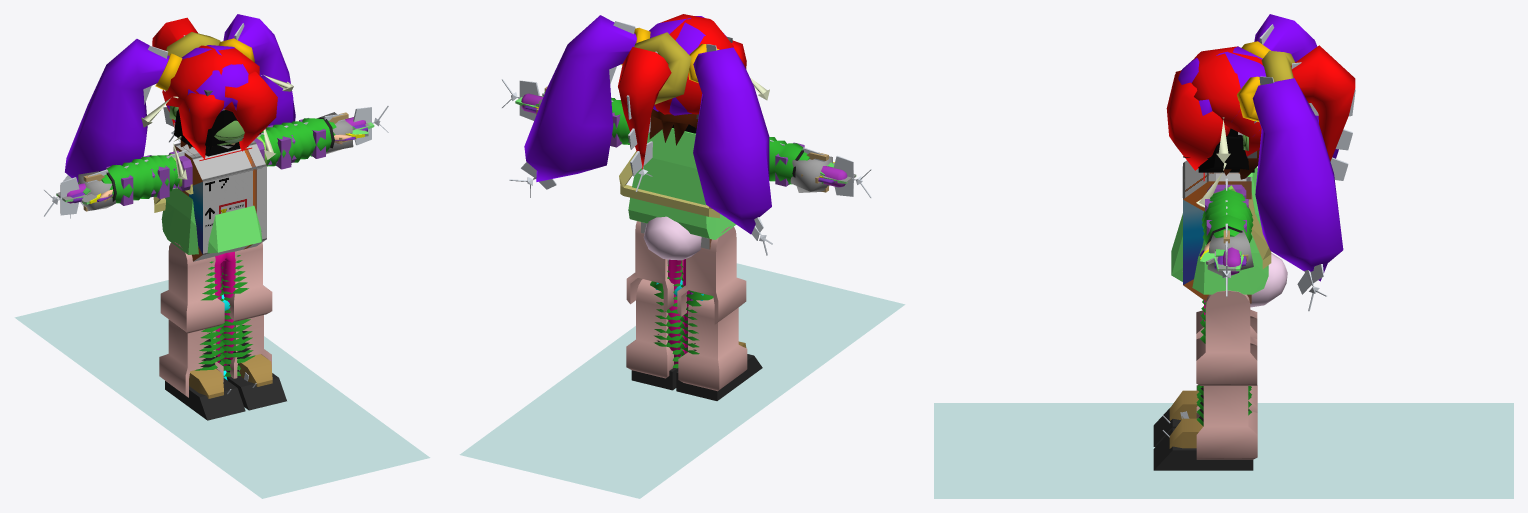
Rendered from robotCompositeNew.glb.
3 views of the same model, side by side, from view 1: azimuth 30°, elevation 25°; view 2: azimuth 150°, elevation 25°; view 3: azimuth 270°, elevation 25° (orthographic). The views are drawn at different scales.
Parts seen in each view (by area): view 1: RemoveMeFloorPlane, cassyPtail002, torso3, luleg010, torso2, cassyPtail001, cassyHair, cassyBangs1, llleg010, luleg9, rarm2, larm2 (+21 smaller); view 2: RemoveMeFloorPlane, cassyPtail002, cassyPtail001, torso2, llleg010, luleg010, cassyPtail, llleg9, torso7, cassyHair, luleg9, cassyHairAcc (+12 smaller); view 3: RemoveMeFloorPlane, cassyPtail001, luleg9, llleg9, cassyPtail, cassyHair, cassyBangs1, torso3, torso2, larm2, lfoot01, cassyPtail002 (+9 smaller).
Part boxes in pixels (<box>): RemoveMeFloorPlane: <box>14,280,430,498</box>; cassyPtail002: <box>65,39,169,182</box>; torso3: <box>173,141,266,261</box>; luleg010: <box>160,242,224,333</box>; torso2: <box>161,188,262,254</box>; cassyPtail001: <box>223,14,295,126</box>; cassyHair: <box>162,45,259,122</box>; cassyBangs1: <box>224,71,277,151</box>; llleg010: <box>159,319,223,397</box>; luleg9: <box>229,242,272,321</box>; rarm2: <box>101,155,179,203</box>; larm2: <box>256,118,336,166</box>; RemoveMeFloorPlane: <box>459,263,905,498</box>; cassyPtail002: <box>693,47,771,234</box>; cassyPtail001: <box>524,15,636,181</box>; torso2: <box>628,128,736,239</box>; llleg010: <box>678,298,747,391</box>; luleg010: <box>677,226,746,324</box>; cassyPtail: <box>618,47,671,169</box>; llleg9: <box>626,279,673,378</box>; torso7: <box>643,216,701,260</box>; cassyHair: <box>654,14,733,114</box>; luleg9: <box>626,221,673,312</box>; cassyHairAcc: <box>634,32,691,104</box>; RemoveMeFloorPlane: <box>934,403,1513,498</box>; cassyPtail001: <box>1252,78,1343,281</box>; luleg9: <box>1196,290,1257,385</box>; llleg9: <box>1196,386,1257,459</box>; cassyPtail: <box>1291,45,1355,161</box>; cassyHair: <box>1191,46,1262,156</box>; cassyBangs1: <box>1166,70,1230,170</box>; torso3: <box>1183,160,1251,303</box>; torso2: <box>1171,167,1268,294</box>; larm2: <box>1202,188,1253,244</box>; lfoot01: <box>1153,428,1253,470</box>; cassyPtail002: <box>1254,14,1338,158</box>.
Size of the model in its own units: 1.18 by 1.15 by 1.47.
174 materials, 17 textured.
